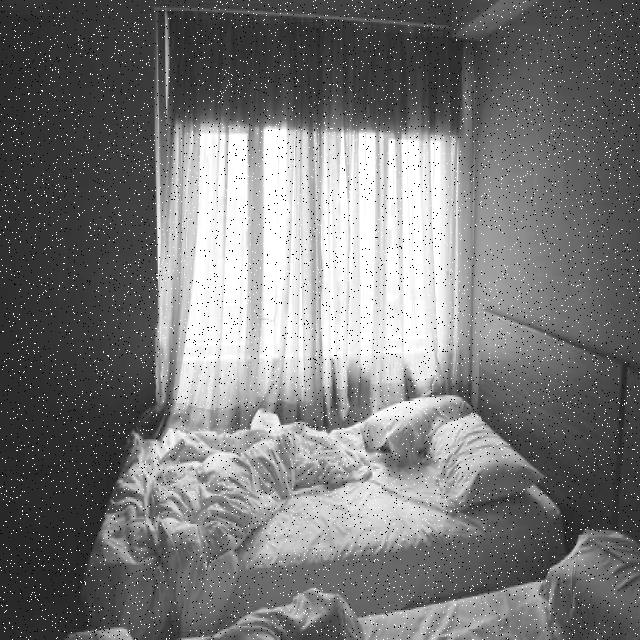bed: (90, 391, 640, 640)
